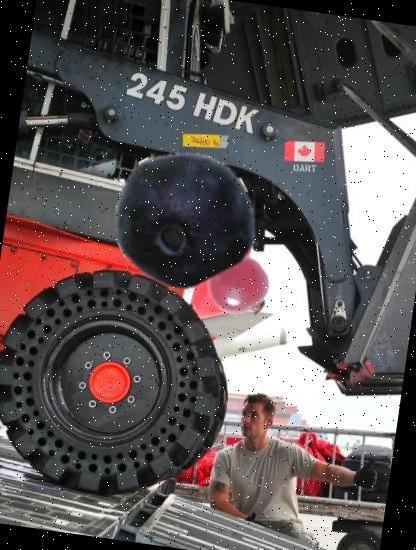Blueberry: (104, 139, 262, 297)
Redcurrant: (206, 254, 276, 325)
